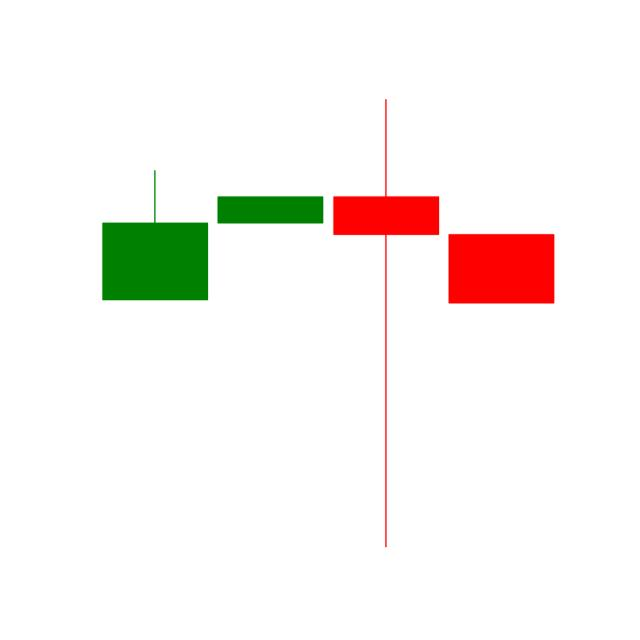Dragonfly Doji: (334, 100, 441, 552)
Four price doji: (218, 194, 326, 225)
